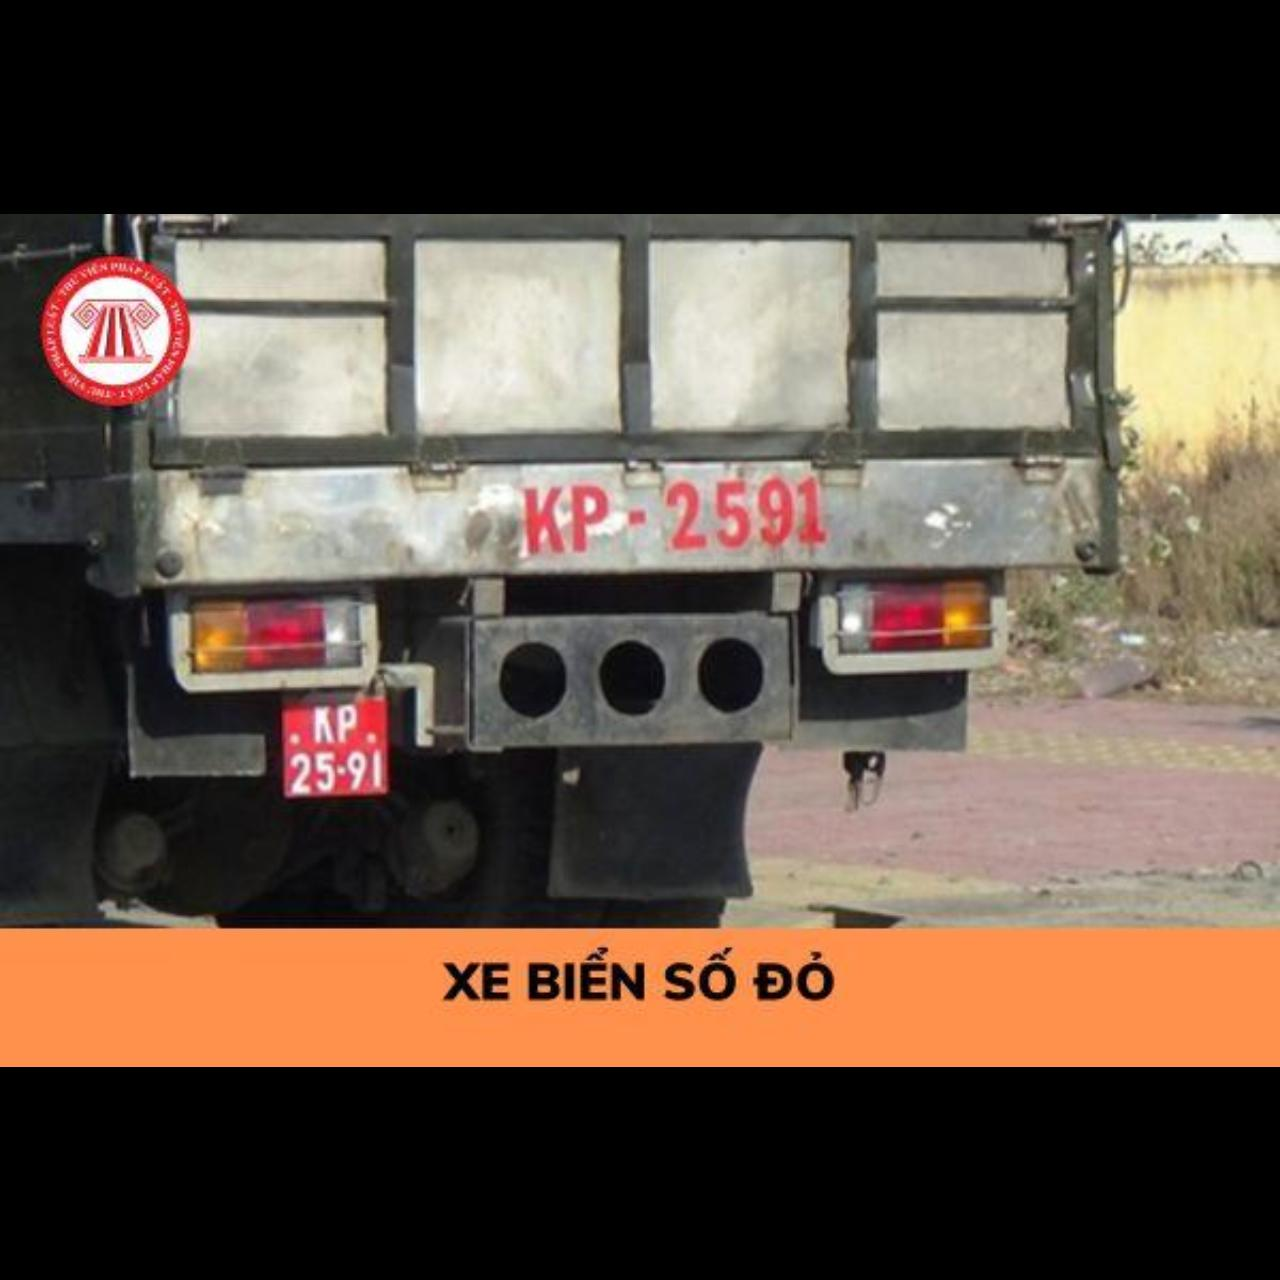bienso: (283, 695, 389, 797)
